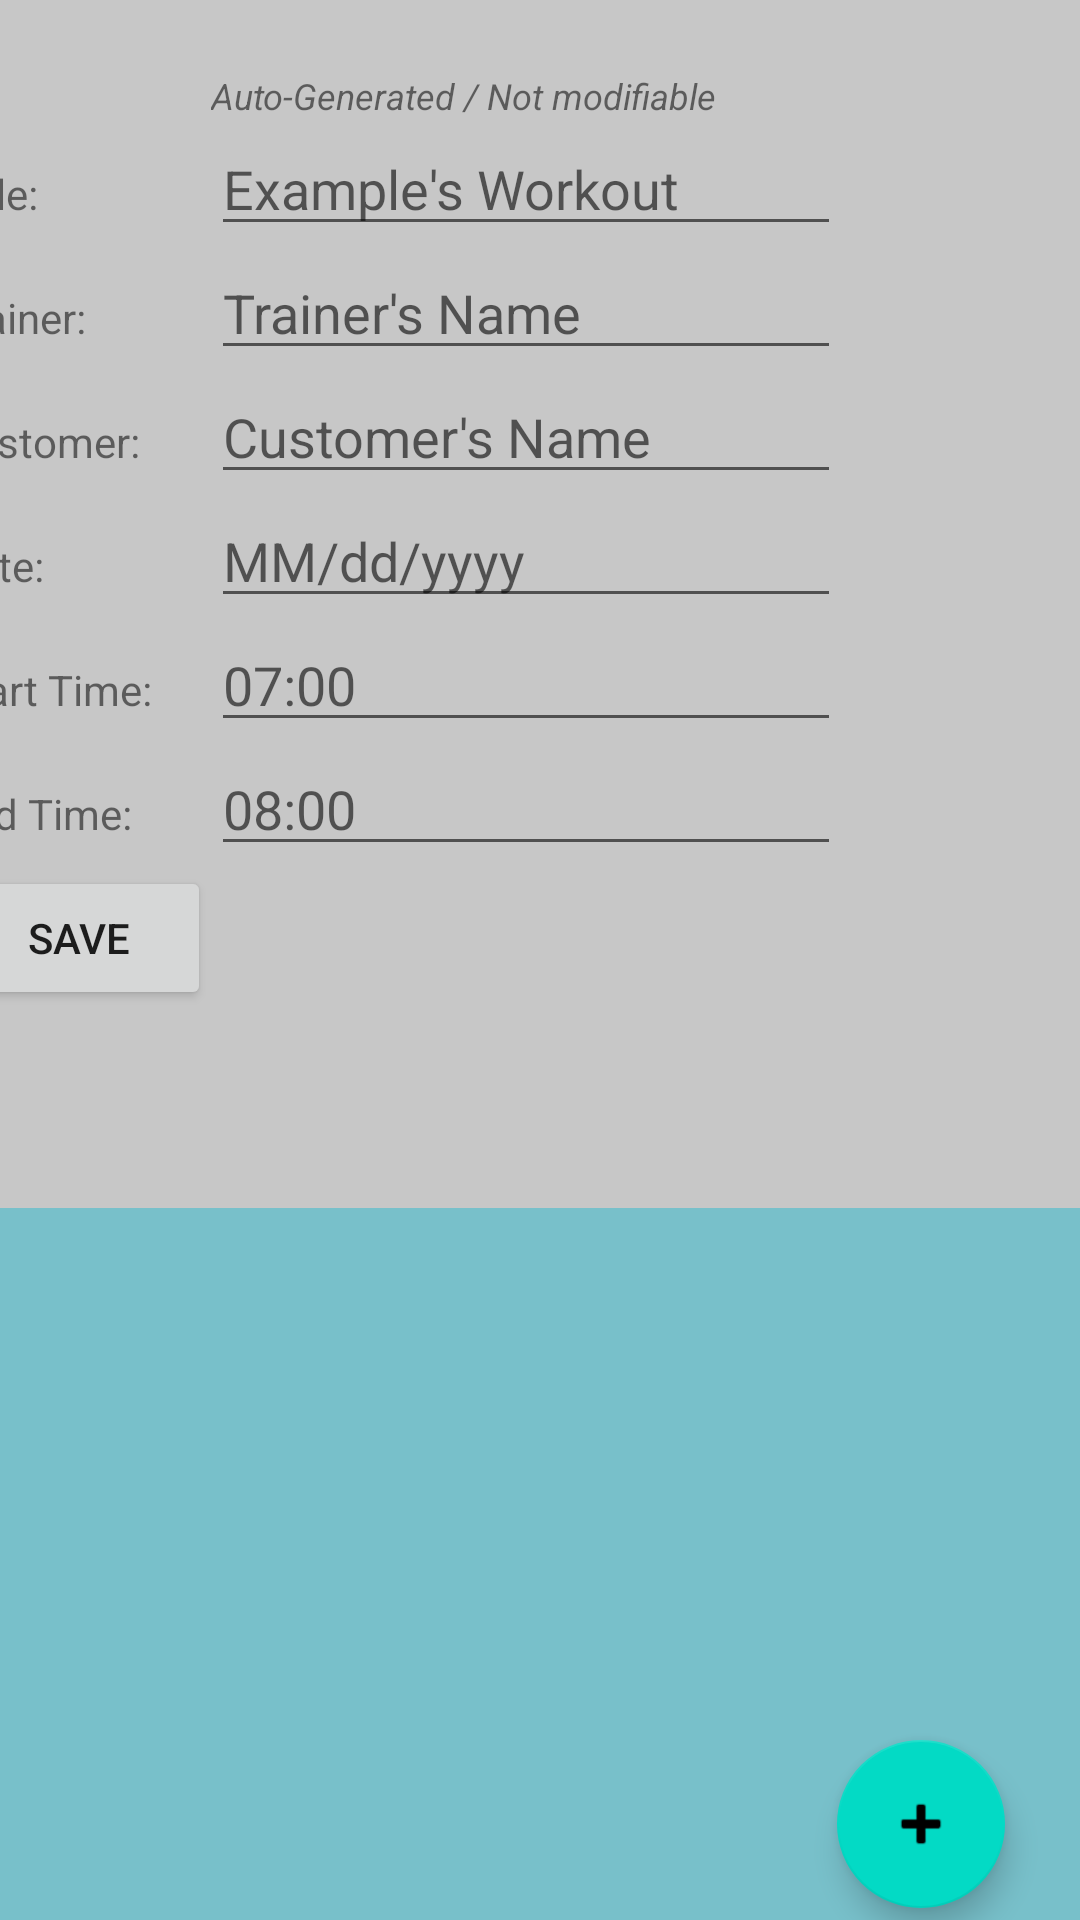

Screen size 1080 x 1920. Icon name, then its box in pixels as box(x1, y1, x2, y2):
add: box(837, 1740, 1005, 1908)
